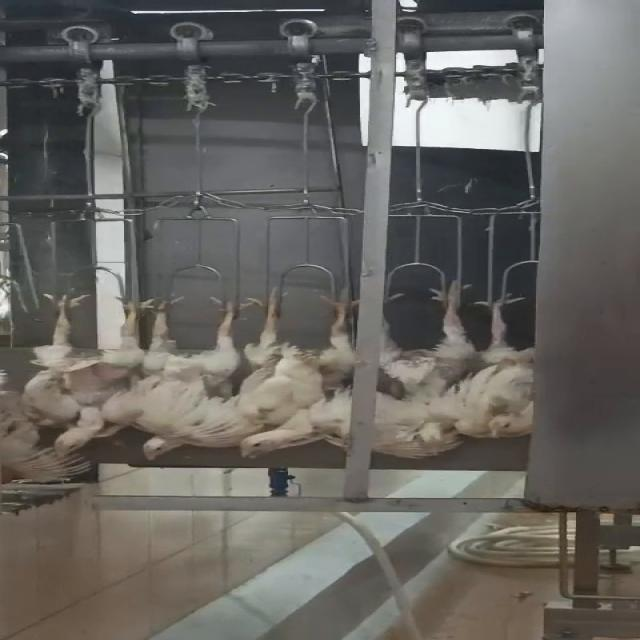chicken: (19, 294, 158, 460), (226, 285, 360, 457), (137, 292, 264, 464), (375, 280, 467, 462), (471, 289, 541, 442)
